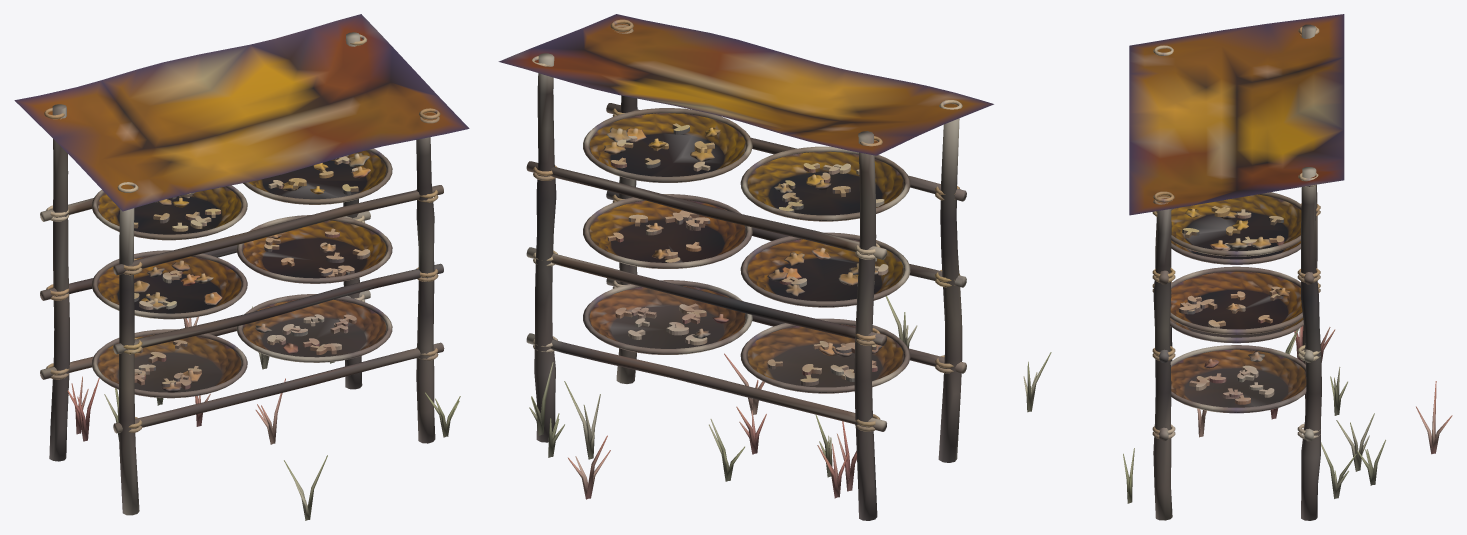
Rendered from kurutma_tepsi.glb.
The picture shows the model from 3 angles, left to right: view 1: azimuth 30°, elevation 25°; view 2: azimuth 150°, elevation 25°; view 3: azimuth 270°, elevation 25°; orthographic projection. The views are drawn at different scales.
Visible parts, largest first — view 1: kurutma_tepsi_LOD0; view 2: kurutma_tepsi_LOD0; view 3: kurutma_tepsi_LOD0.
Part boxes in pixels (x1=…): kurutma_tepsi_LOD0: x1=14, y1=14, x2=469, y2=520; kurutma_tepsi_LOD0: x1=498, y1=14, x2=993, y2=520; kurutma_tepsi_LOD0: x1=1023, y1=14, x2=1452, y2=520.
Size of what is drawn, in the model's own units: 2.3 by 2.24 by 2.48.
